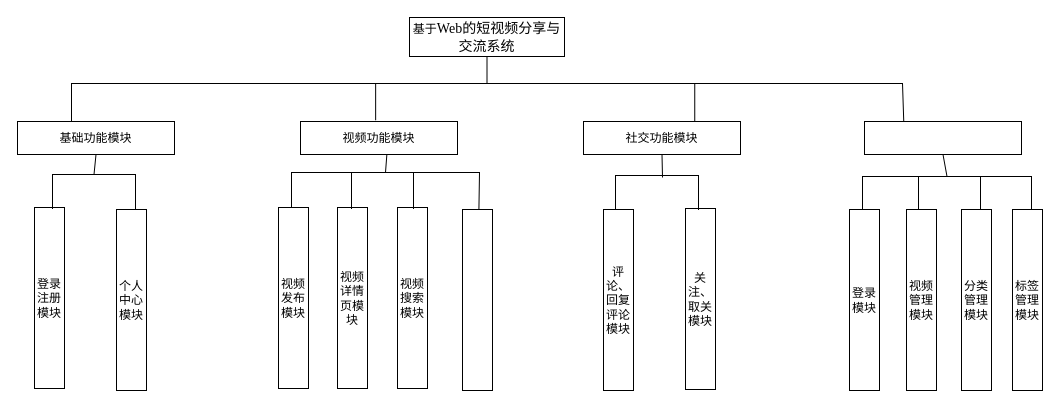
Image size: 1060x408. Some labels were removed from this diagram. The centre of each missing label's shape, as x and y in pixels:
"后台管理系统模块" belongs at pixel 943 137.
"私信消息模块" belongs at pixel 477 299.
